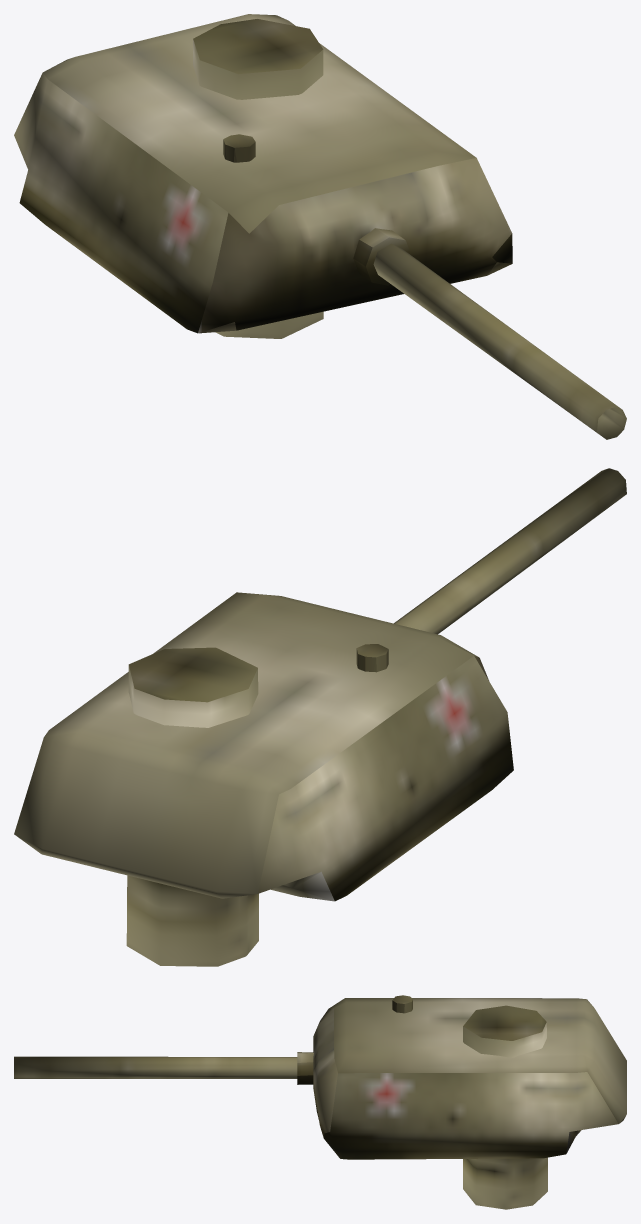
File: t-34-head.obj
3 renders of one model, top to bottom at view 1: azimuth 30°, elevation 25°; view 2: azimuth 150°, elevation 25°; view 3: azimuth 270°, elevation 25°, orthographic. The views are drawn at different scales.
Visible parts, largest first — view 1: Cube.001, Cylinder.001, Cylinder.005, Cylinder.003, Cylinder.004; view 2: Cube.001, Cylinder.005, Cylinder.001, Cylinder.004; view 3: Cube.001, Cylinder.005, Cylinder.001, Cylinder.003, Cylinder.004.
Boxes of the visible parts, box(x1,y1,x2,y2) form: Cube.001: box(14, 14, 512, 333); Cylinder.001: box(373, 243, 626, 439); Cylinder.005: box(193, 19, 323, 338); Cylinder.003: box(353, 228, 410, 285); Cylinder.004: box(223, 134, 255, 162); Cube.001: box(14, 592, 513, 901); Cylinder.005: box(126, 647, 258, 966); Cylinder.001: box(394, 468, 626, 634); Cylinder.004: box(356, 644, 388, 672); Cube.001: box(313, 998, 626, 1159); Cylinder.005: box(463, 1005, 547, 1209); Cylinder.001: box(14, 1056, 297, 1078); Cylinder.003: box(297, 1052, 313, 1084); Cylinder.004: box(392, 995, 412, 1013).
Bounding box in the file's own units: 1.16 × 0.9296 × 3.06.
Materials: 1 (1 with a texture image).
